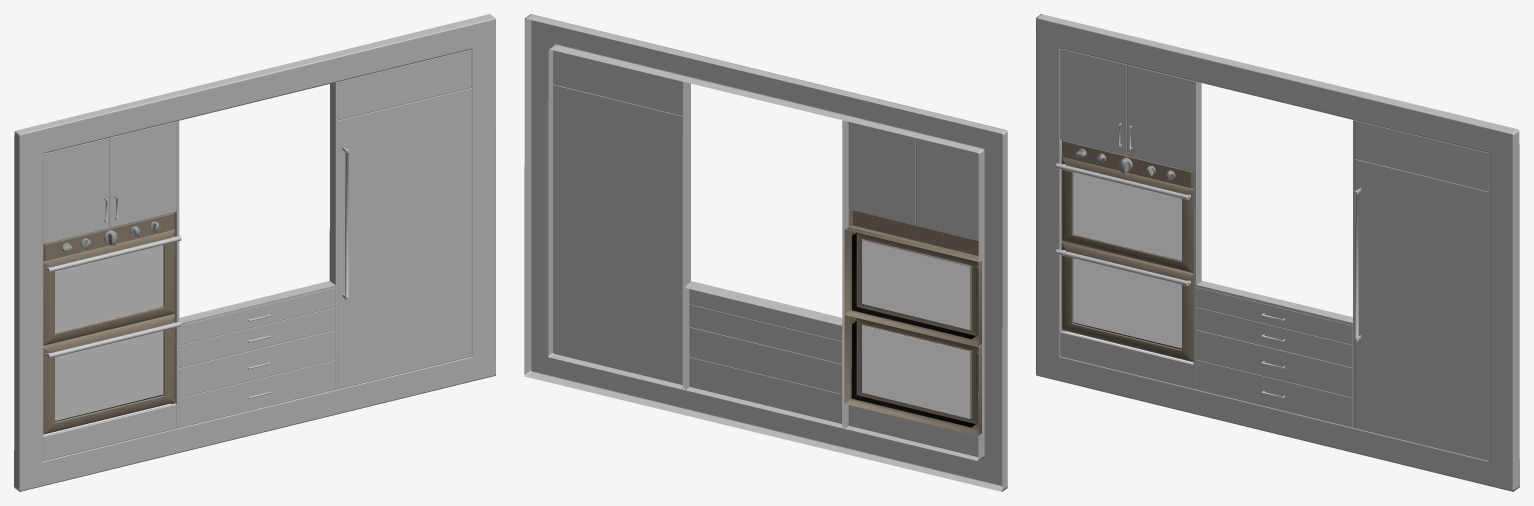
Rendered from 405Door.obj.
The picture shows the model from 3 angles, left to right: view 1: azimuth 30°, elevation 25°; view 2: azimuth 150°, elevation 25°; view 3: azimuth 330°, elevation 25°; orthographic projection.
Parts seen in each view (by area): view 1: 405; view 2: 405; view 3: 405.
Part boxes in pixels (x1,y1,x2,y2): 405: (14,14,495,491); 405: (524,14,1007,491); 405: (1036,14,1519,491).
Bounding box in the file's own units: 3 × 2.15 × 0.1312.
